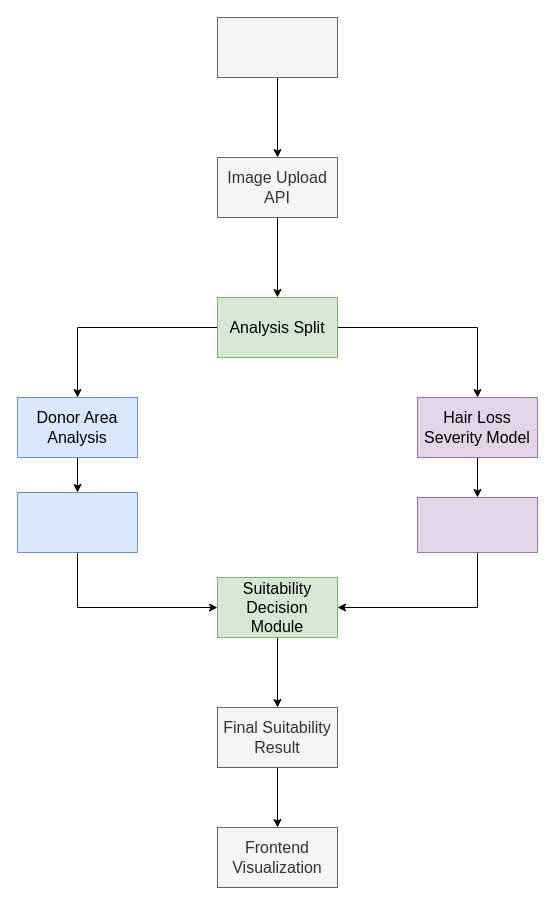
The diagram is 555 pixels wide and 905 high, and some of its shapes have lost their labels. The shapes that lost their labels are listed below. From the top down, each one's centre as x and y in pixels, then its label:
At pixel 277 47: "Input Image".
At pixel 77 522: "Donor Features & Score".
At pixel 477 524: "Severity Probabilities".
